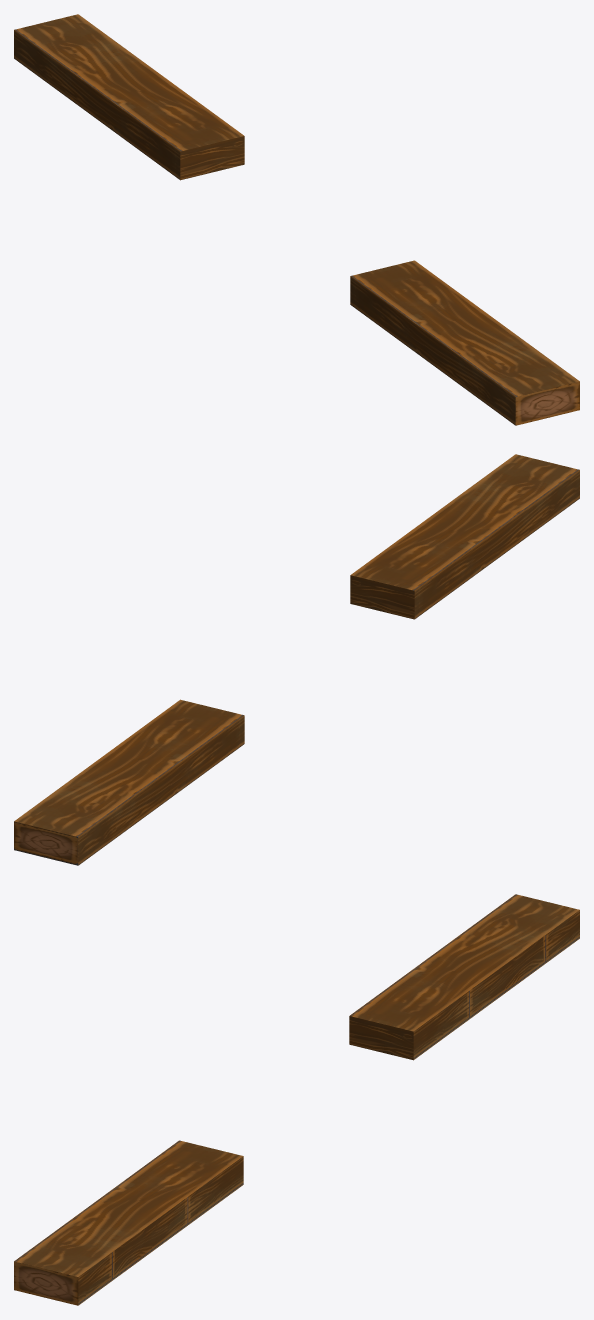
3 renders of one model, top to bottom at view 1: azimuth 30°, elevation 25°; view 2: azimuth 150°, elevation 25°; view 3: azimuth 330°, elevation 25°, orthographic.
Parts seen in each view (by area): view 1: Cube.2098; view 2: Cube.2098; view 3: Cube.2098.
Part boxes in pixels (<box>): Cube.2098: <box>14,14,579,425</box>; Cube.2098: <box>14,454,579,865</box>; Cube.2098: <box>14,894,579,1305</box>.
Size of the model in its own units: 86.43 by 36.89 by 1168.
Materials: 1 (1 with a texture image).
